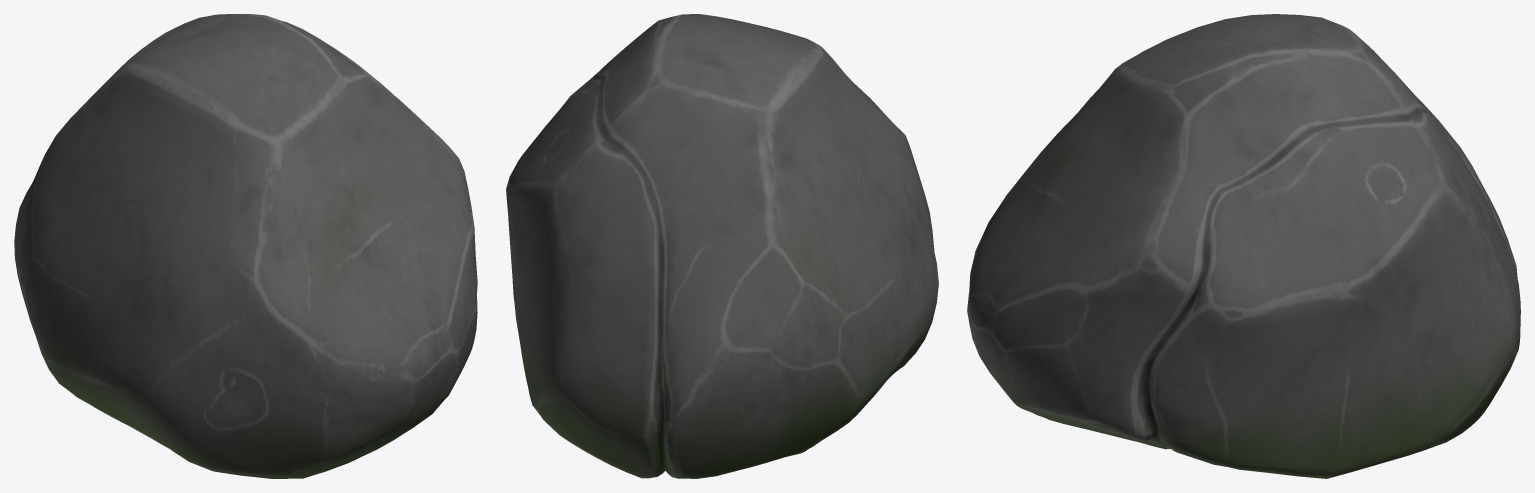
Rendered from rock.glb.
The picture shows the model from 3 angles, left to right: view 1: azimuth 30°, elevation 25°; view 2: azimuth 150°, elevation 25°; view 3: azimuth 270°, elevation 25°; orthographic projection. The views are drawn at different scales.
Parts seen in each view (by area): view 1: stone_0; view 2: stone_0; view 3: stone_0.
Boxes of the visible parts, x1,y1,x2,y2 form: stone_0: [14, 14, 477, 478]; stone_0: [506, 14, 938, 478]; stone_0: [967, 14, 1520, 478].
Bounding box in the file's own units: 0.4151 × 0.3983 × 0.5073.
1 material, 1 textured.
